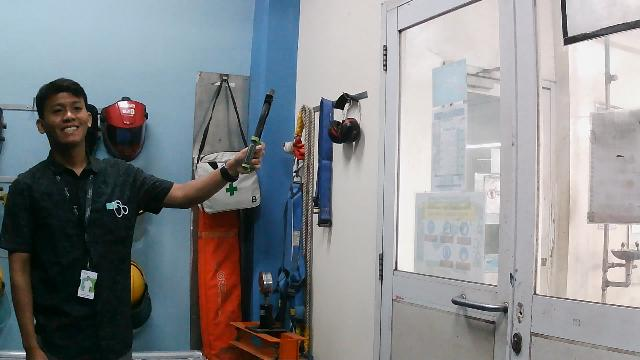tang_rivet: (240, 84, 278, 176)
